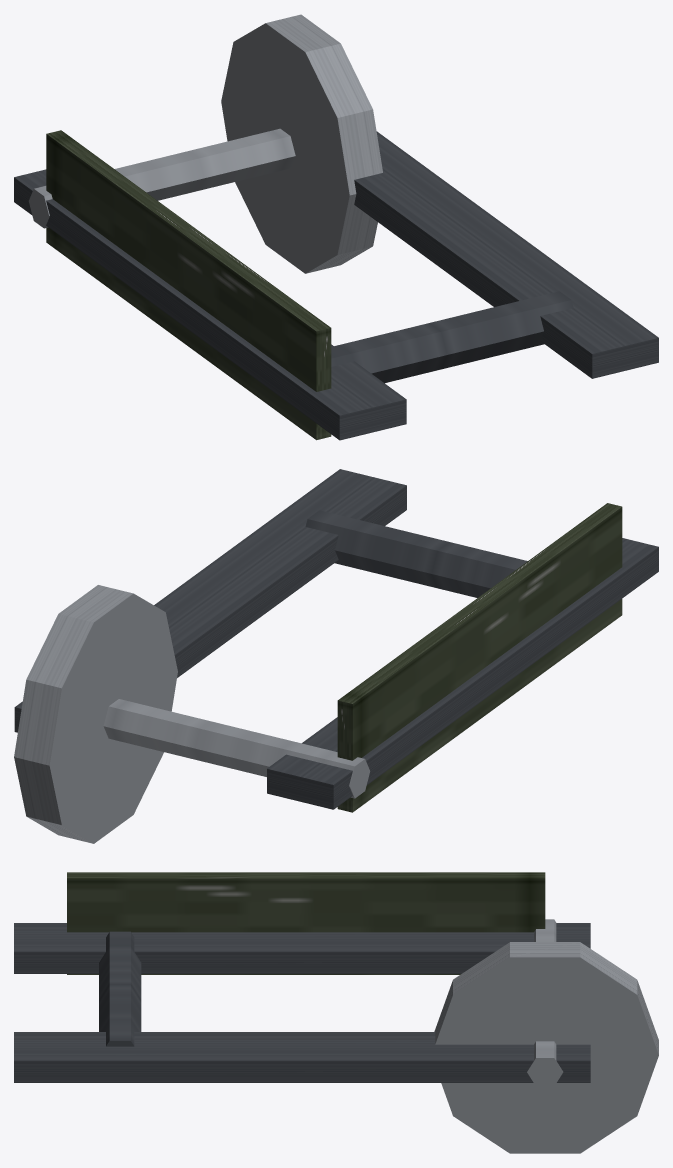
Rendered from pod_scooter_swingarm.fbx.
3 views of the same model, one above another, from view 1: azimuth 30°, elevation 25°; view 2: azimuth 150°, elevation 25°; view 3: azimuth 270°, elevation 25° (orthographic). The views are drawn at different scales.
Parts seen in each view (by area): view 1: pod_scooter_swingarm; view 2: pod_scooter_swingarm; view 3: pod_scooter_swingarm.
Boxes of the visible parts, x1=… form: pod_scooter_swingarm: x1=14, y1=14, x2=658, y2=440; pod_scooter_swingarm: x1=14, y1=469, x2=658, y2=843; pod_scooter_swingarm: x1=14, y1=872, x2=658, y2=1153.
Bounding box in the file's own units: 21.6 × 14.27 × 42.5.
1 material, 1 textured.
